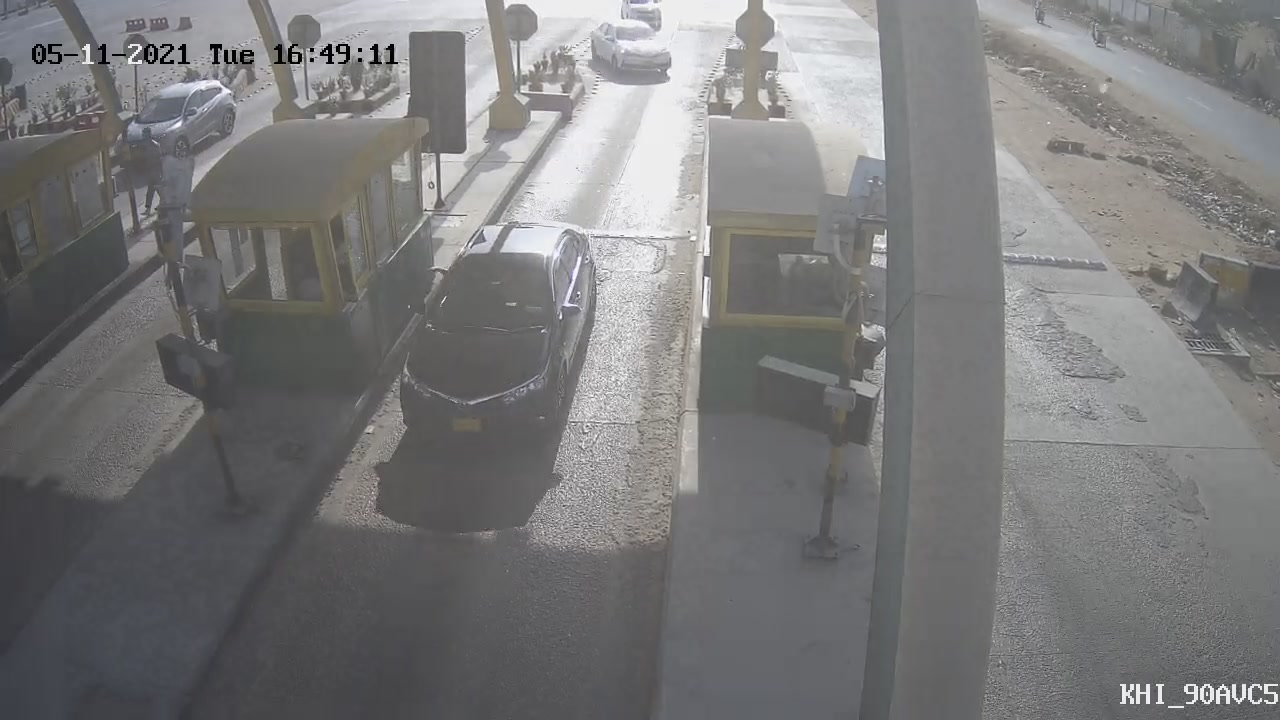F1: (378, 205, 613, 472)
